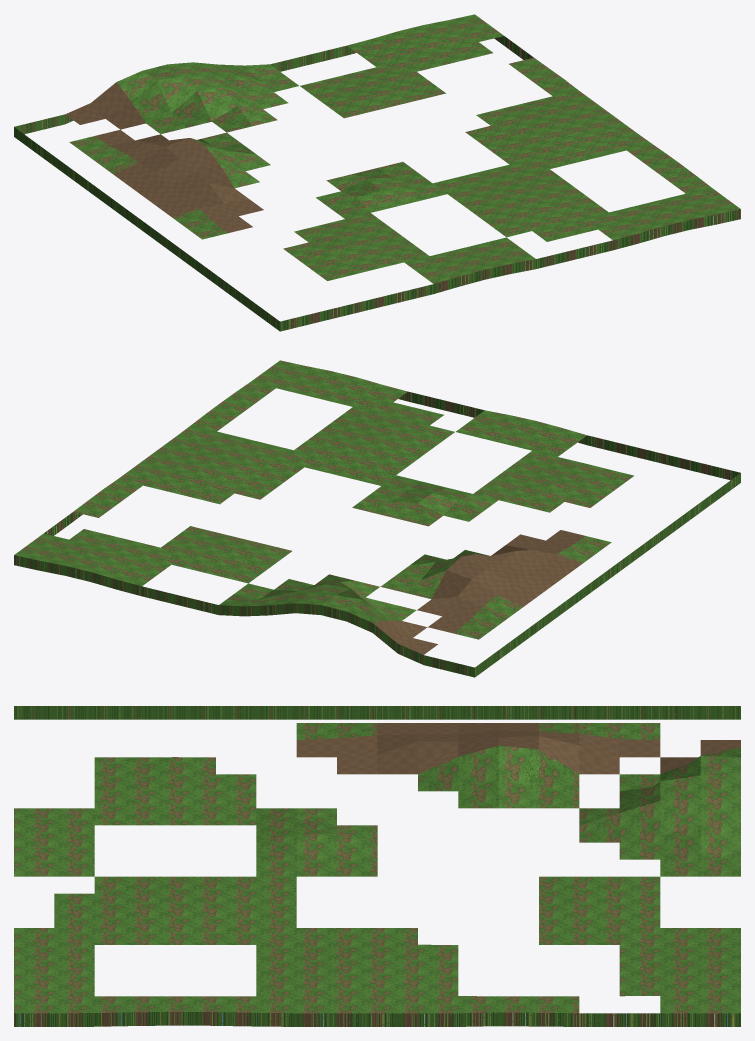
Rendered from rv_terrain_22.gltf.
3 renders of one model, top to bottom at view 1: azimuth 30°, elevation 25°; view 2: azimuth 150°, elevation 25°; view 3: azimuth 270°, elevation 25°, orthographic. The views are drawn at different scales.
Parts seen in each view (by area): view 1: RV_Terrain_22; view 2: RV_Terrain_22; view 3: RV_Terrain_22.
Boxes of the visible parts, x1,y1,x2,y2 form: RV_Terrain_22: [14, 14, 740, 331]; RV_Terrain_22: [14, 360, 740, 677]; RV_Terrain_22: [14, 706, 740, 1026].
Size of the model in its own units: 72 by 5.37 by 72.
3 materials, 2 textured.
